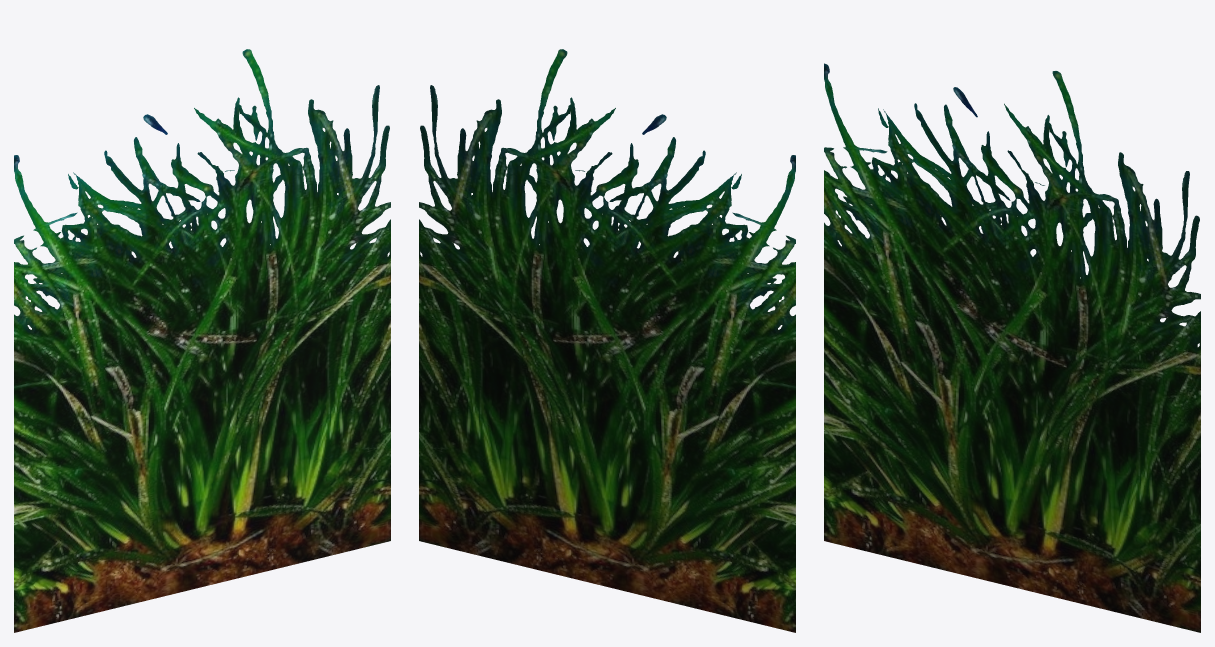
Rendered from posi.fbx.
The picture shows the model from 3 angles, left to right: view 1: azimuth 30°, elevation 25°; view 2: azimuth 150°, elevation 25°; view 3: azimuth 330°, elevation 25°; orthographic projection.
Visible parts, largest first — view 1: Plane; view 2: Plane; view 3: Plane.
Boxes of the visible parts, x1,y1,x2,y2 form: Plane: (14, 49, 390, 632); Plane: (419, 49, 795, 632); Plane: (824, 63, 1200, 632).
Bounding box in the file's own units: 200 × 267 × 1.17e-05.
Materials: 1 (1 with a texture image).
